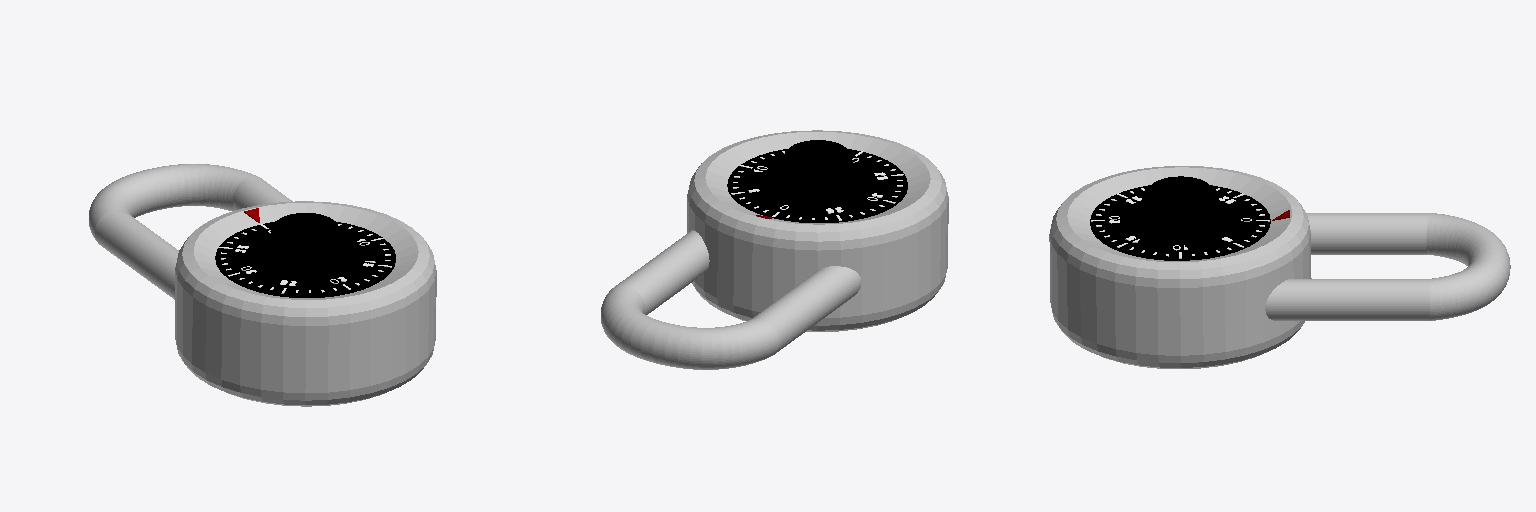
File: lock.obj
The picture shows the model from 3 angles: view 1: azimuth 30°, elevation 25°; view 2: azimuth 150°, elevation 25°; view 3: azimuth 270°, elevation 25°; orthographic projection.
Parts seen in each view (by area): view 1: base, button, Sweep; view 2: base, Sweep, button; view 3: base, Sweep, button.
Boxes of the visible parts, <box> form: base: <box>175,201,436,406</box>; button: <box>215,213,395,297</box>; Sweep: <box>89,164,292,299</box>; base: <box>687,130,948,331</box>; Sweep: <box>601,230,861,369</box>; button: <box>727,140,907,222</box>; base: <box>1049,166,1311,368</box>; Sweep: <box>1265,213,1510,320</box>; button: <box>1090,176,1270,260</box>.
Bounding box in the file's own units: 100 × 56.69 × 176.